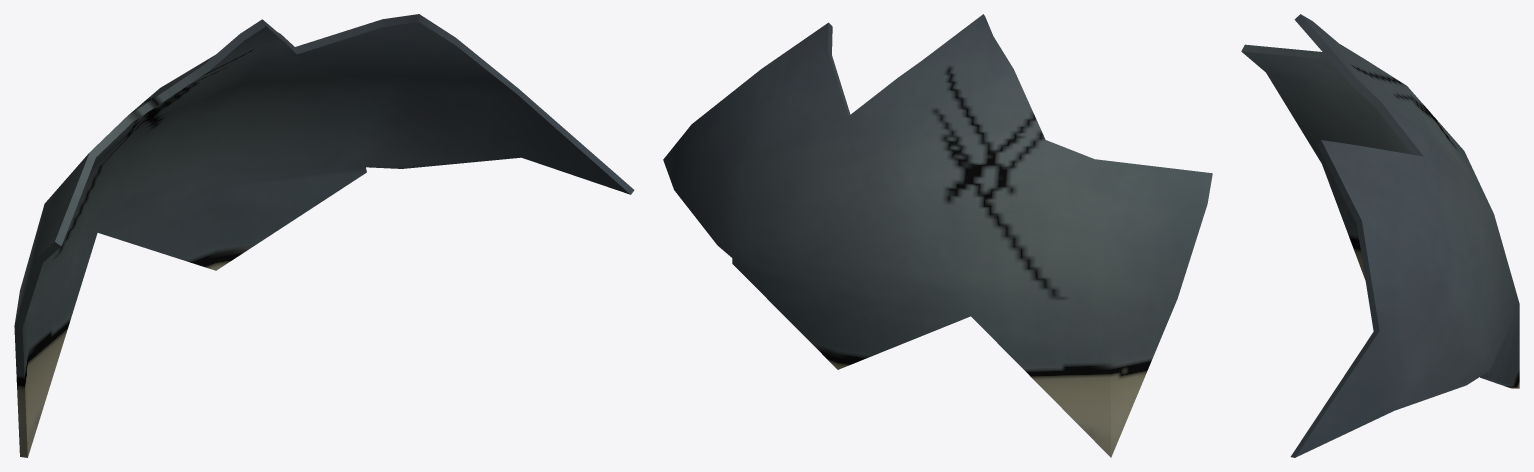
File: jug_gib_6.fbx
3 renders of one model, left to right at view 1: azimuth 30°, elevation 25°; view 2: azimuth 150°, elevation 25°; view 3: azimuth 270°, elevation 25°, orthographic. The views are drawn at different scales.
Parts seen in each view (by area): view 1: jug_gib_6; view 2: jug_gib_6; view 3: jug_gib_6.
Part boxes in pixels (bbox=[...]): jug_gib_6: bbox=[14, 14, 634, 457]; jug_gib_6: bbox=[663, 14, 1212, 457]; jug_gib_6: bbox=[1241, 14, 1519, 457].
Bounding box in the file's own units: 171 × 114 × 66.87.
